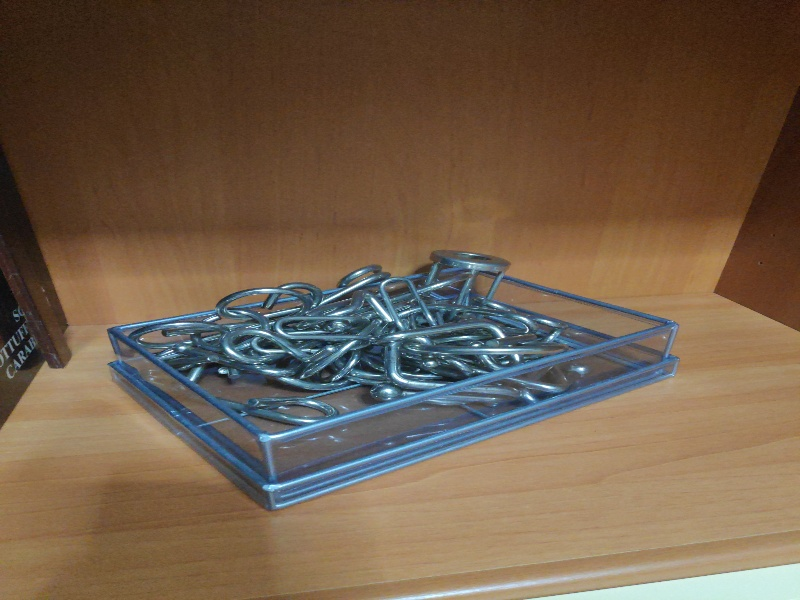games: (102, 245, 686, 514)
